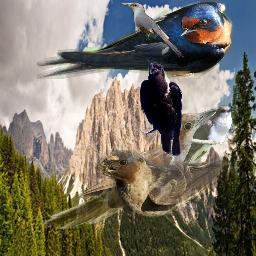Crow: (139, 62, 183, 159)
Cuckoo: (41, 108, 220, 229), (169, 105, 235, 195), (120, 2, 184, 59)
Swallow: (37, 0, 234, 79), (97, 150, 230, 222)
